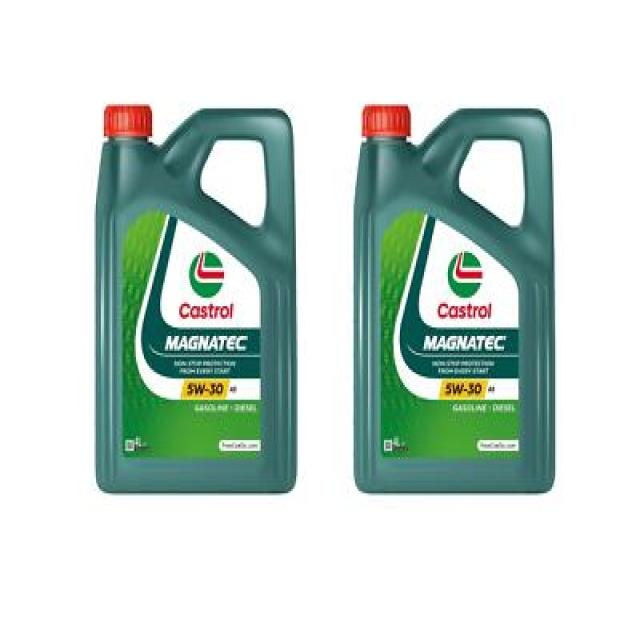motor_oil: (91, 103, 299, 497), (359, 96, 562, 498)
